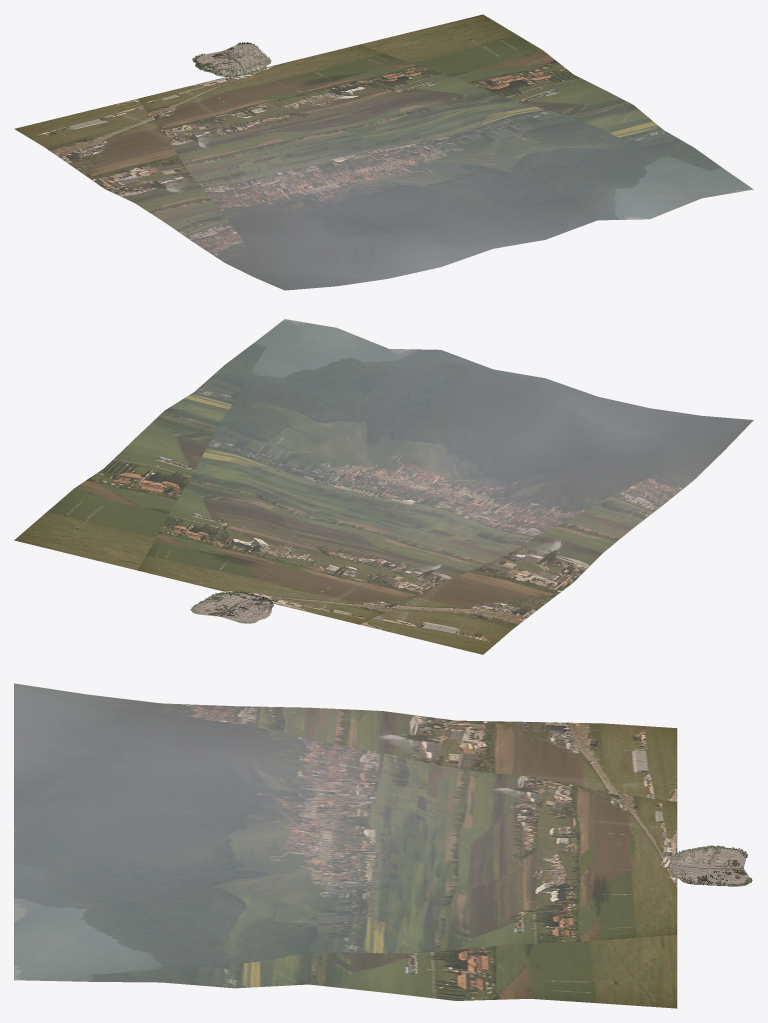
Rendered from st1_411_0_terrain_01ms.fbx.
3 renders of one model, top to bottom at view 1: azimuth 30°, elevation 25°; view 2: azimuth 150°, elevation 25°; view 3: azimuth 270°, elevation 25°, orthographic. The views are drawn at different scales.
Visible parts, largest first — view 1: LOD_1_Group_0_Sub_7__st1_cutGround04_Mat, LOD_1_Group_0_Sub_2__st1_cutGround03_Mat, LOD_1_Group_0_Sub_5__st1_cutPlant02_Mat__Env_AlphaTest; view 2: LOD_1_Group_0_Sub_7__st1_cutGround04_Mat, LOD_1_Group_0_Sub_2__st1_cutGround03_Mat, LOD_1_Group_0_Sub_5__st1_cutPlant02_Mat__Env_AlphaTest; view 3: LOD_1_Group_0_Sub_7__st1_cutGround04_Mat, LOD_1_Group_0_Sub_2__st1_cutGround03_Mat, LOD_1_Group_0_Sub_5__st1_cutPlant02_Mat__Env_AlphaTest.
Part boxes in pixels (x1,y1,x2,y2): LOD_1_Group_0_Sub_7__st1_cutGround04_Mat: [14, 14, 753, 290]; LOD_1_Group_0_Sub_2__st1_cutGround03_Mat: [192, 43, 271, 77]; LOD_1_Group_0_Sub_5__st1_cutPlant02_Mat__Env_AlphaTest: [192, 42, 271, 77]; LOD_1_Group_0_Sub_7__st1_cutGround04_Mat: [14, 319, 753, 654]; LOD_1_Group_0_Sub_2__st1_cutGround03_Mat: [191, 592, 273, 623]; LOD_1_Group_0_Sub_5__st1_cutPlant02_Mat__Env_AlphaTest: [190, 591, 273, 623]; LOD_1_Group_0_Sub_7__st1_cutGround04_Mat: [14, 683, 677, 1008]; LOD_1_Group_0_Sub_2__st1_cutGround03_Mat: [670, 847, 749, 886]; LOD_1_Group_0_Sub_5__st1_cutPlant02_Mat__Env_AlphaTest: [669, 845, 752, 886].
Size of the model in its own units: 10000 by 745 by 11154.
